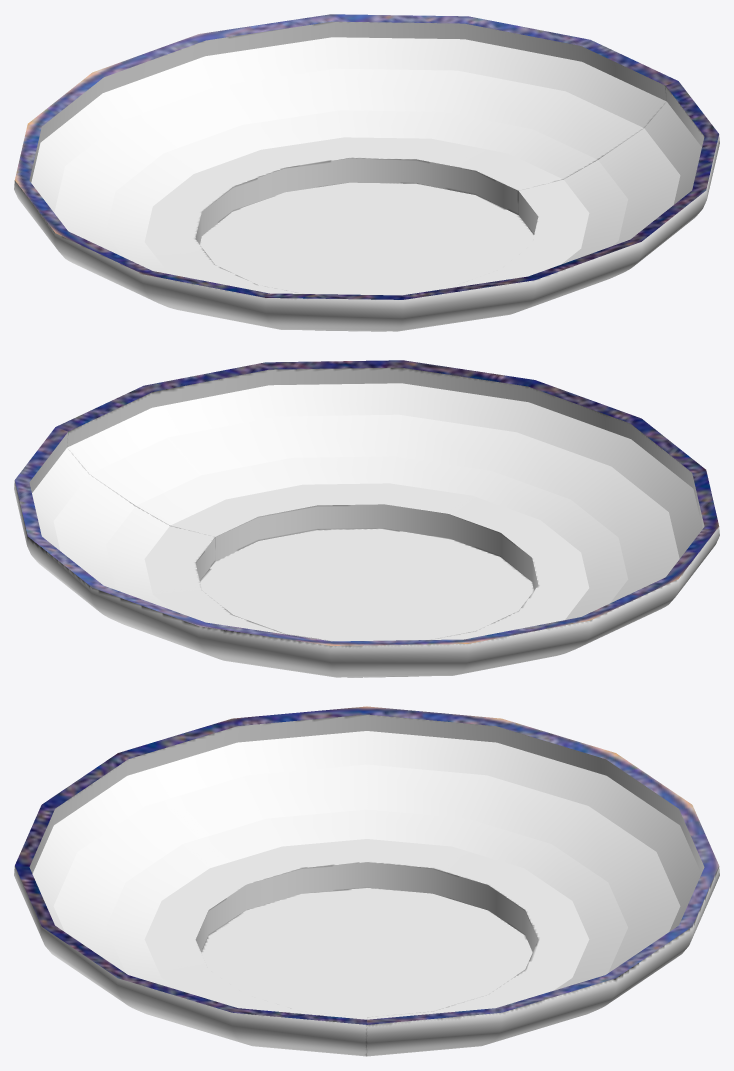
The model's file is Platos.fbx.
3 views of the same model, one above another, from view 1: azimuth 30°, elevation 25°; view 2: azimuth 150°, elevation 25°; view 3: azimuth 270°, elevation 25° (orthographic). The views are drawn at different scales.
Parts seen in each view (by area): view 1: Platos(Mapeado)(Texturizado); view 2: Platos(Mapeado)(Texturizado); view 3: Platos(Mapeado)(Texturizado).
Part boxes in pixels (bbox=[...]): Platos(Mapeado)(Texturizado): bbox=[14, 14, 719, 331]; Platos(Mapeado)(Texturizado): bbox=[14, 360, 719, 677]; Platos(Mapeado)(Texturizado): bbox=[14, 706, 719, 1056].
Size of the model in its own units: 88.72 by 13.92 by 82.95.
